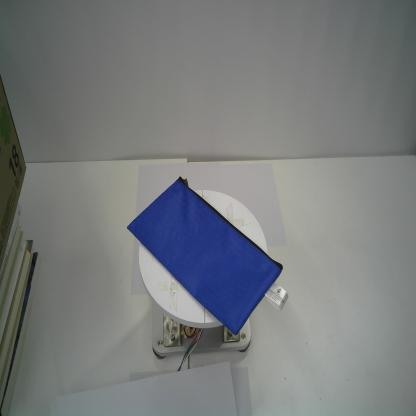Stationery: (124, 176, 293, 334)
